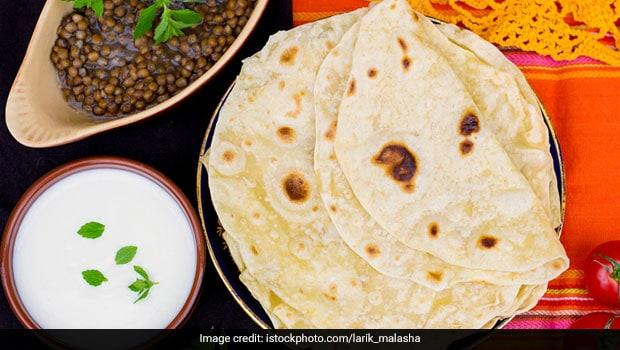chapati: (203, 10, 542, 328), (315, 1, 568, 290), (314, 23, 553, 290), (335, 2, 566, 272)
